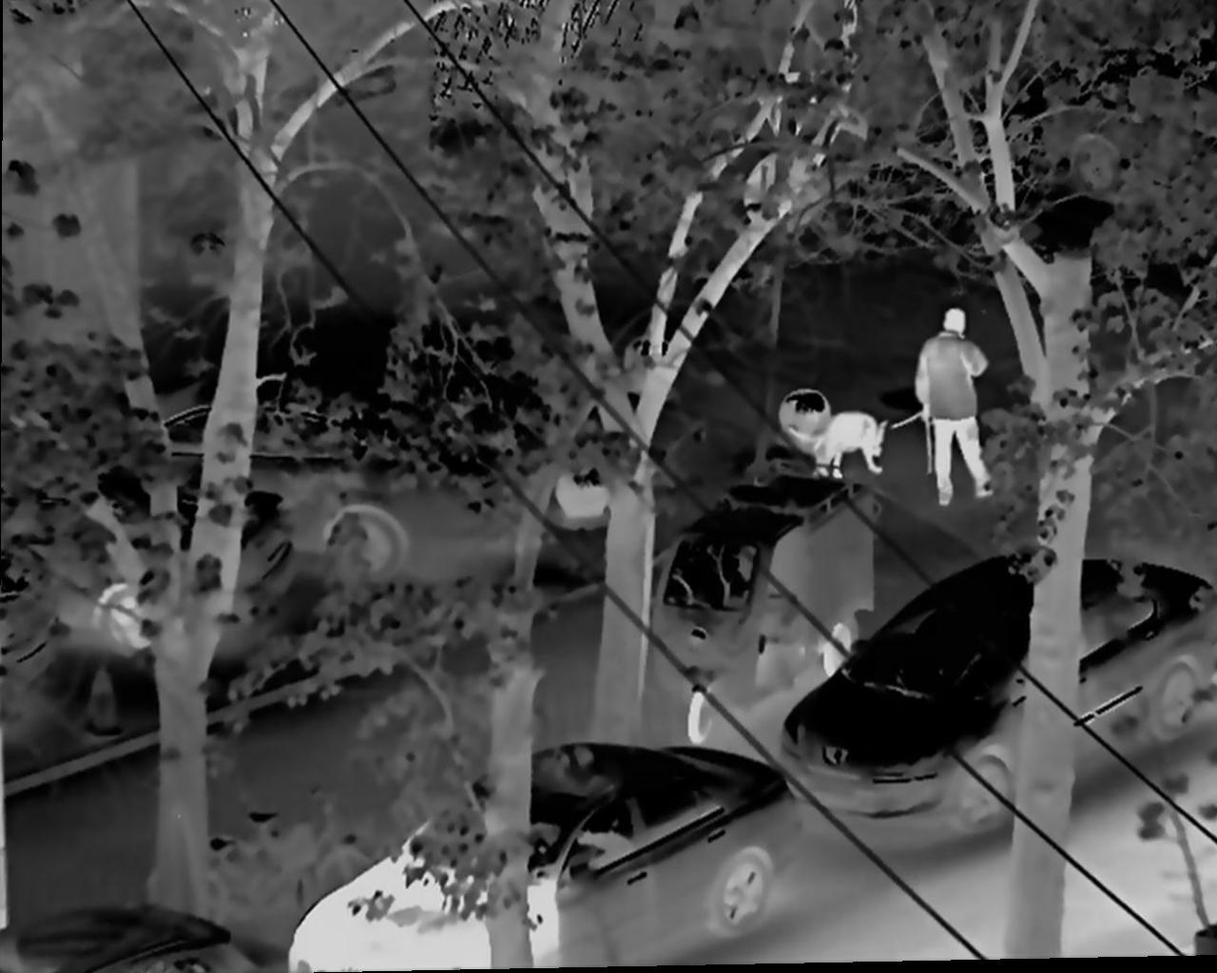person: (910, 306, 999, 513)
